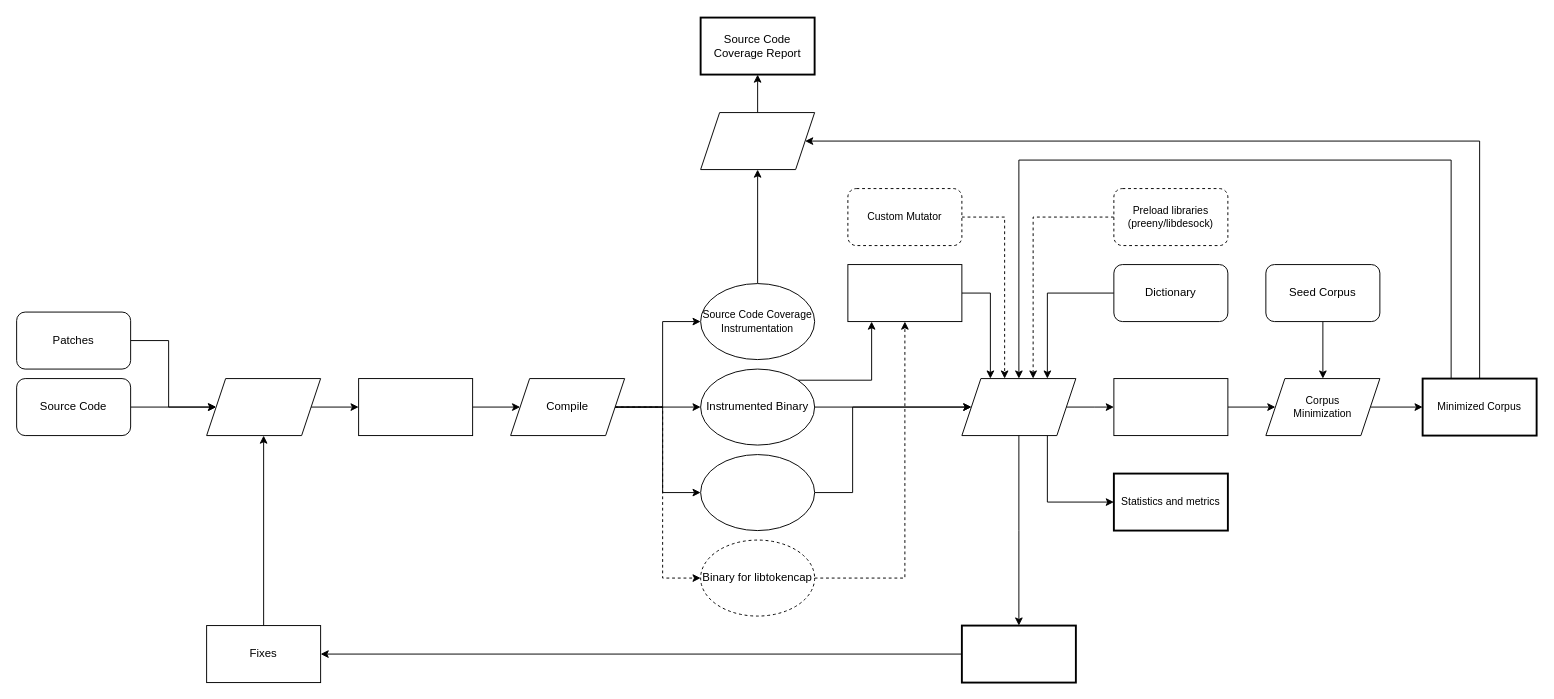
Image size: 1554x699. Some labels were removed from this diagram. Here are the shapes that lost their labels. From the top down, the centre of each, then its label:
At point 757,141: "Collecting Coverage".
At point 904,293: "AUTODICT".
At point 263,407: "Patch Sourecs".
At point 415,407: "Patched Source Code".
At point 1018,407: "Fuzzing".
At point 1170,407: "Corpus".
At point 757,492: "Binaries with Extra Instrumentation (Sanitizers, complog)".
At point 1018,653: "Crashes".
